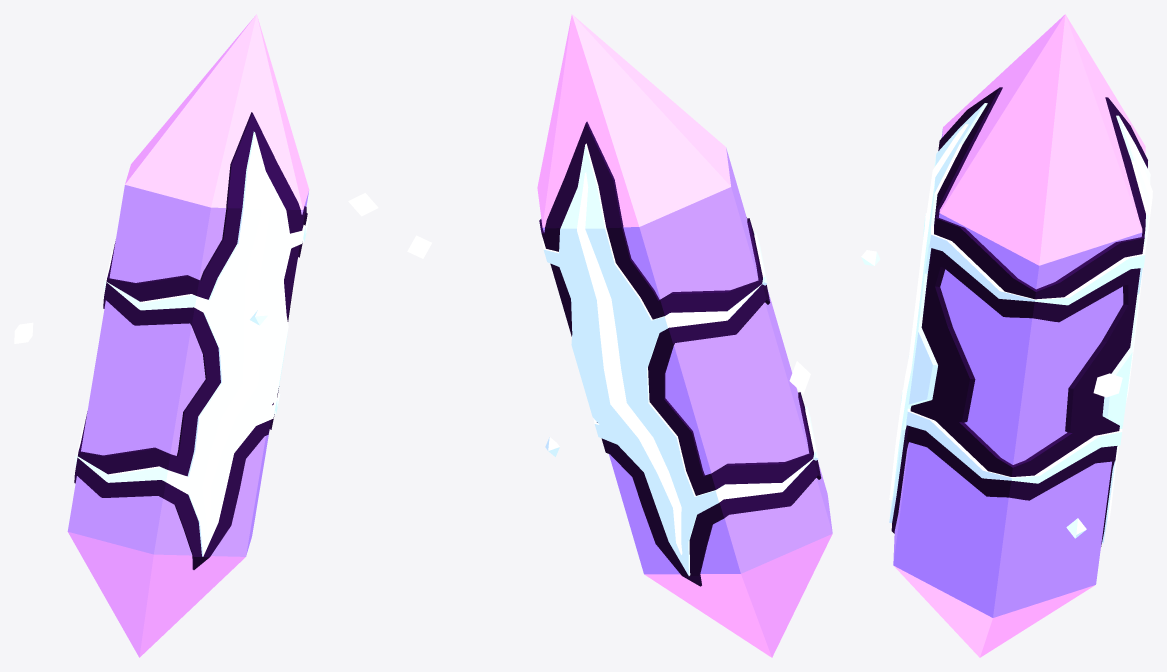
Rendered from essencerift_shard.glb.
The picture shows the model from 3 angles, left to right: view 1: azimuth 30°, elevation 25°; view 2: azimuth 150°, elevation 25°; view 3: azimuth 270°, elevation 25°; orthographic projection. The views are drawn at different scales.
Parts seen in each view (by area): view 1: essencerift_shard; view 2: essencerift_shard; view 3: essencerift_shard.
Part boxes in pixels (x1,y1,x2,y2): essencerift_shard: (14, 14, 378, 657); essencerift_shard: (407, 14, 832, 657); essencerift_shard: (861, 14, 1152, 657).
Size of the model in its own units: 0.1572 by 0.24 by 0.0861.
